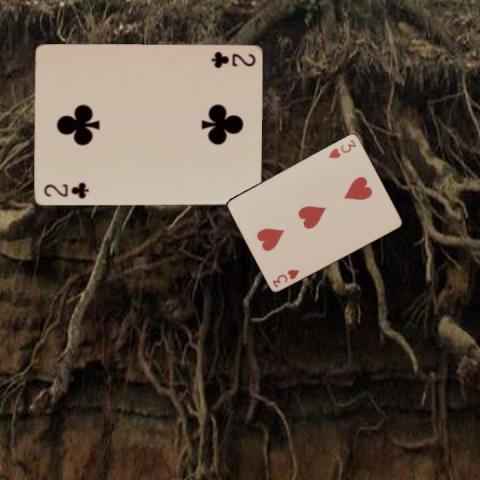2c: (41, 180, 90, 201), (208, 48, 257, 68)
3h: (326, 137, 358, 159), (269, 266, 301, 288)
